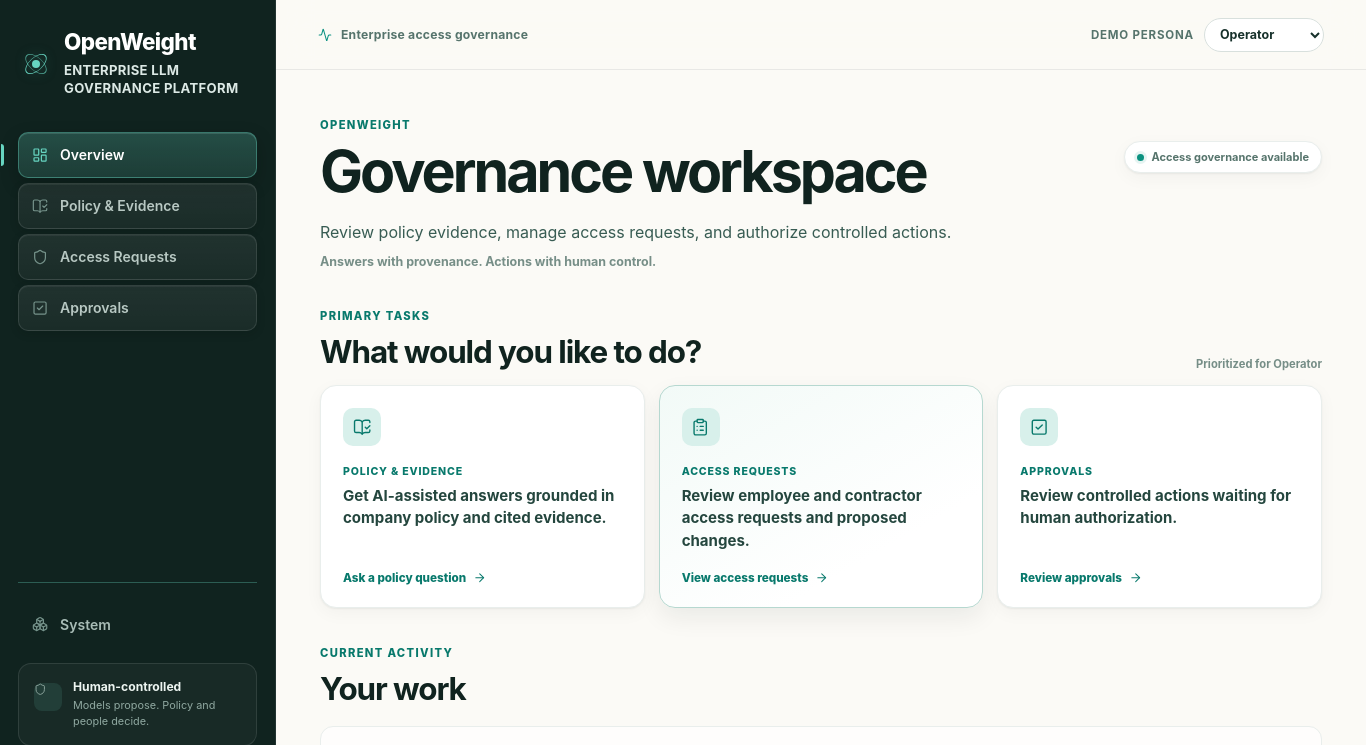
OpenWeight application shell › prioritizes tasks by demo persona without treating the UI as authorization
Expected: the heading "Governance workspace" is shown, x1=320 y1=142 x2=951 y2=200
Expected: the text "Prioritized for Operator" is shown, x1=1196 y1=357 x2=1322 y2=371
Select "Approver" in the dropdown labelled "Demo persona" at (1264, 34), box x1=1204 y1=18 x2=1324 y2=52
(page scrolled)
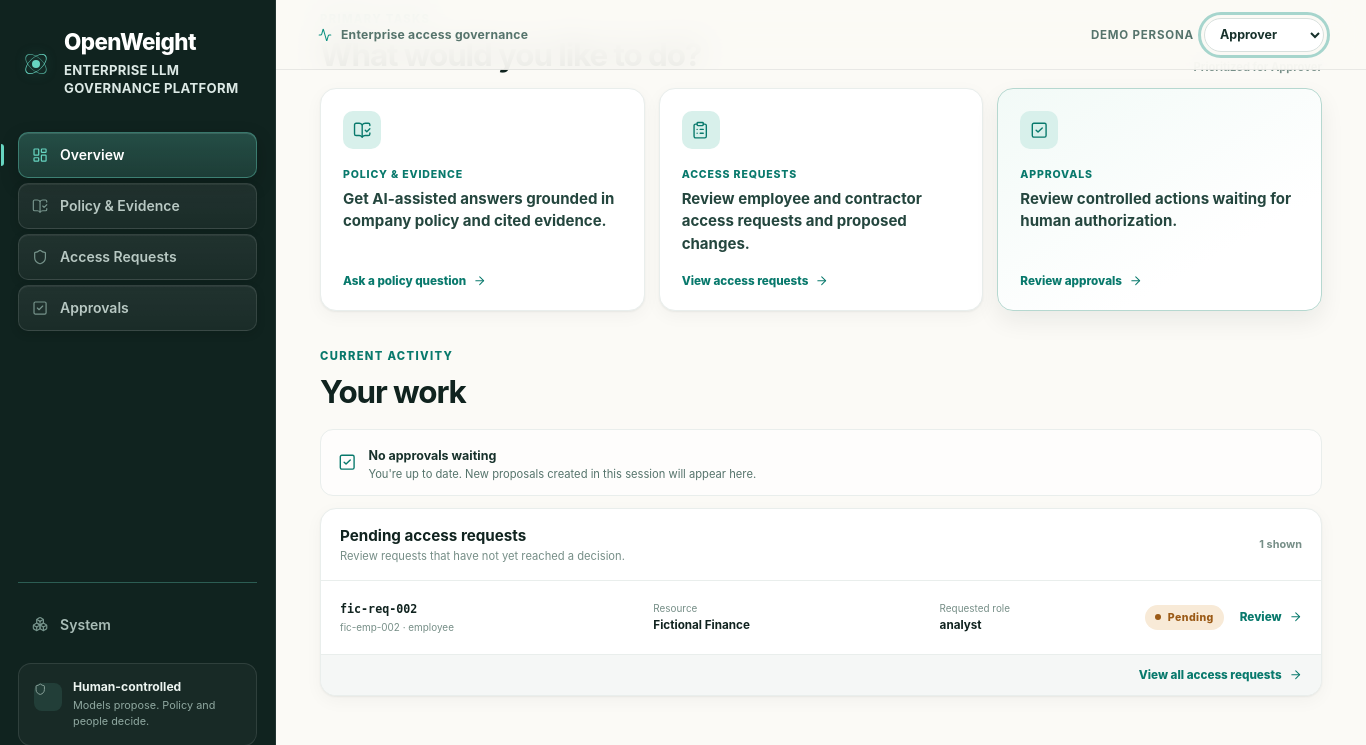
Expected: the text "Prioritized for Approver" is shown, x1=1194 y1=60 x2=1322 y2=74
Click the link with aria-label "Review fic-req-002" at (1271, 617), box x1=1240 y1=610 x2=1302 y2=624
(page scrolled)
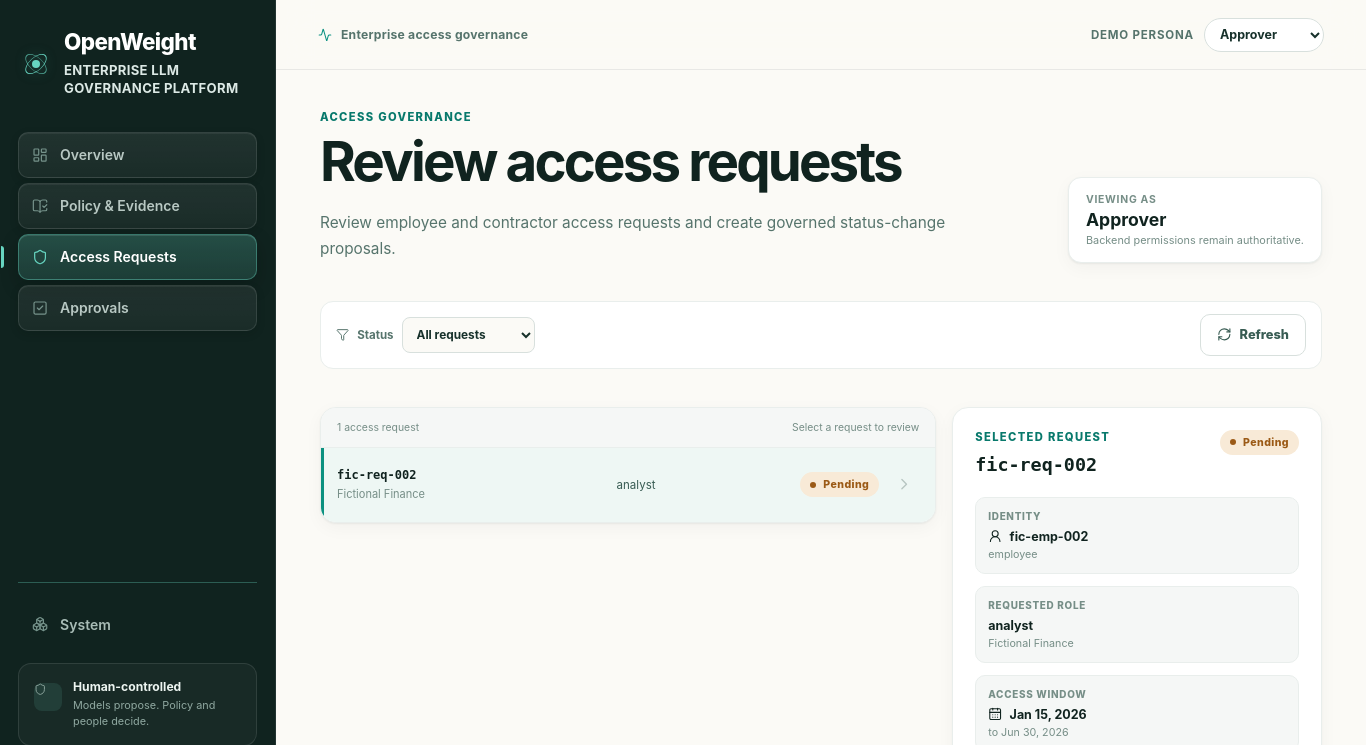
Expected: the heading "fic-req-002" is shown, x1=975 y1=454 x2=1110 y2=474
